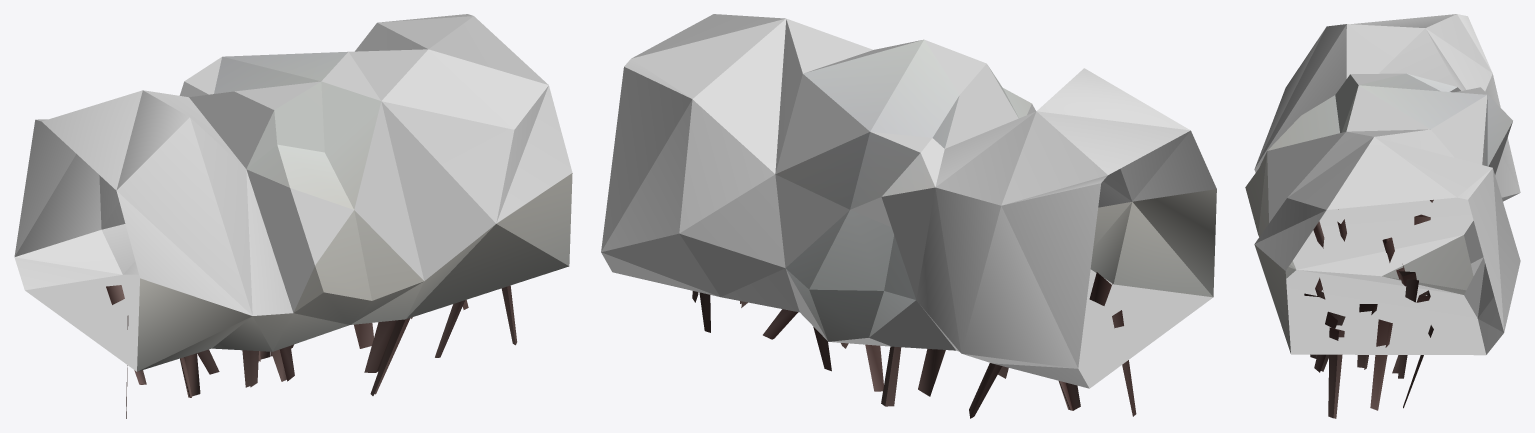
File: sm_bush_middle.fbx
3 views of the same model, side by side, from view 1: azimuth 30°, elevation 25°; view 2: azimuth 150°, elevation 25°; view 3: azimuth 270°, elevation 25° (orthographic). The views are drawn at different scales.
Parts seen in each view (by area): view 1: sm_bush_middle; view 2: sm_bush_middle; view 3: sm_bush_middle.
Part boxes in pixels (x1,y1,x2,y2): sm_bush_middle: [14, 14, 572, 418]; sm_bush_middle: [601, 14, 1216, 418]; sm_bush_middle: [1245, 14, 1520, 418].
Size of the model in its own units: 143 by 211 by 134.
